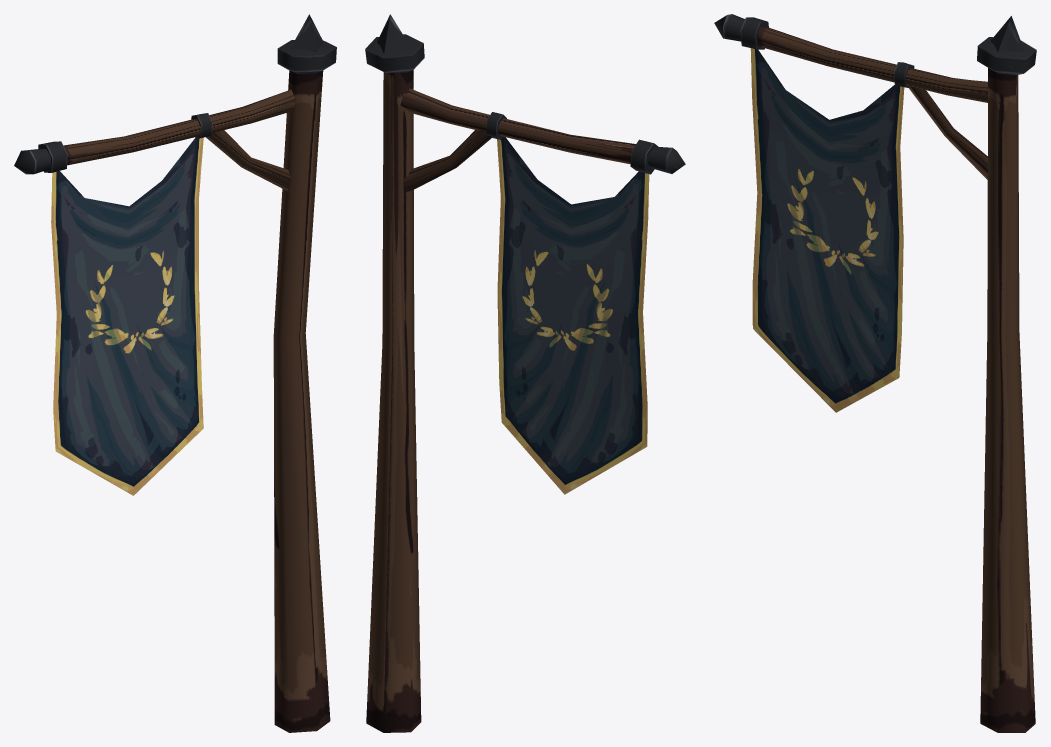
File: SM_PROP_flag_dungeon_07.fbx
3 renders of one model, left to right at view 1: azimuth 30°, elevation 25°; view 2: azimuth 150°, elevation 25°; view 3: azimuth 330°, elevation 25°, orthographic.
Parts seen in each view (by area): view 1: SM_PROP_flag_dungeon_07; view 2: SM_PROP_flag_dungeon_07; view 3: SM_PROP_flag_dungeon_07.
Part boxes in pixels (x1,y1,x2,y2): SM_PROP_flag_dungeon_07: [14, 14, 336, 732]; SM_PROP_flag_dungeon_07: [365, 14, 685, 732]; SM_PROP_flag_dungeon_07: [714, 14, 1036, 732].
Bounding box in the file's own units: 197 × 422 × 31.12.
